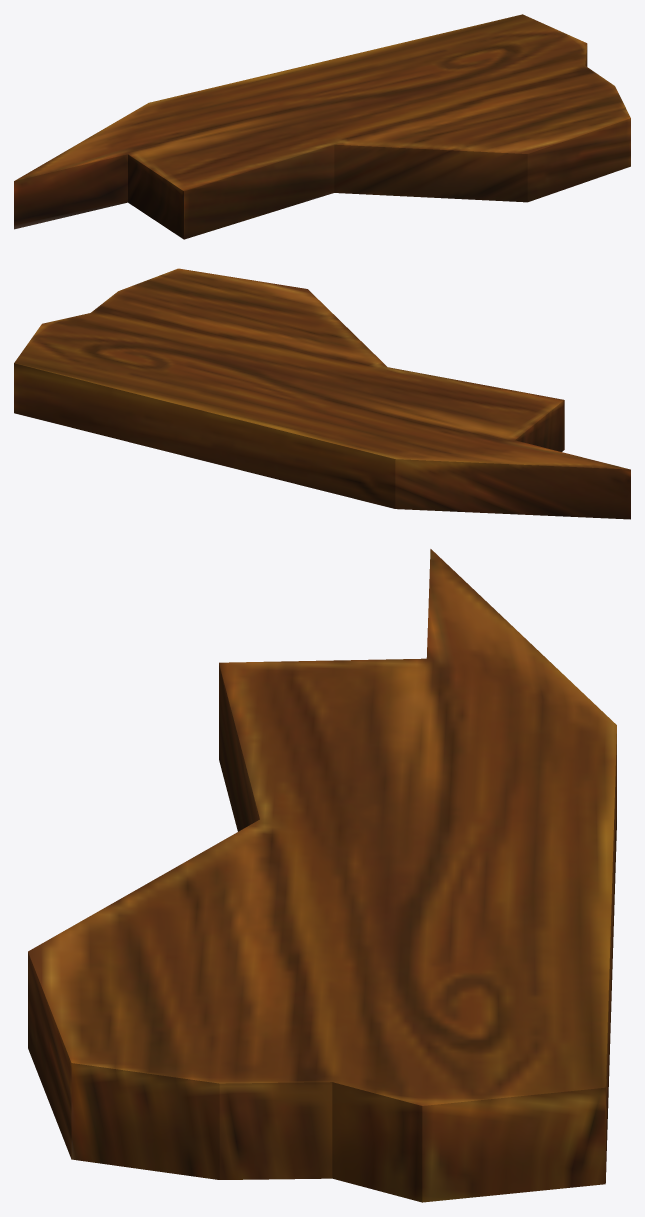
File: Swamp_muban01.FBX
3 renders of one model, top to bottom at view 1: azimuth 30°, elevation 25°; view 2: azimuth 150°, elevation 25°; view 3: azimuth 270°, elevation 25°, orthographic. The views are drawn at different scales.
Parts seen in each view (by area): view 1: muban01; view 2: muban01; view 3: muban01.
Part boxes in pixels (x1,y1,x2,y2): muban01: (14, 14, 630, 239); muban01: (14, 268, 630, 519); muban01: (28, 549, 616, 1202).
Bounding box in the file's own units: 75.31 × 6.08 × 33.63.
